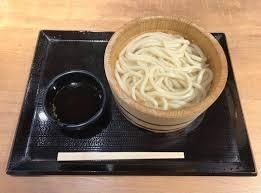kamaage: (99, 11, 230, 144)
